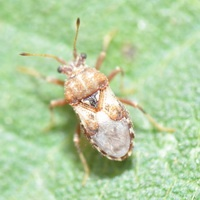insect: (20, 18, 175, 185)
